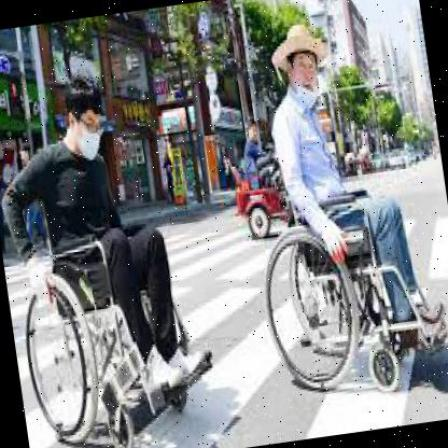wheel: (229, 12, 447, 406), (0, 66, 223, 447)
